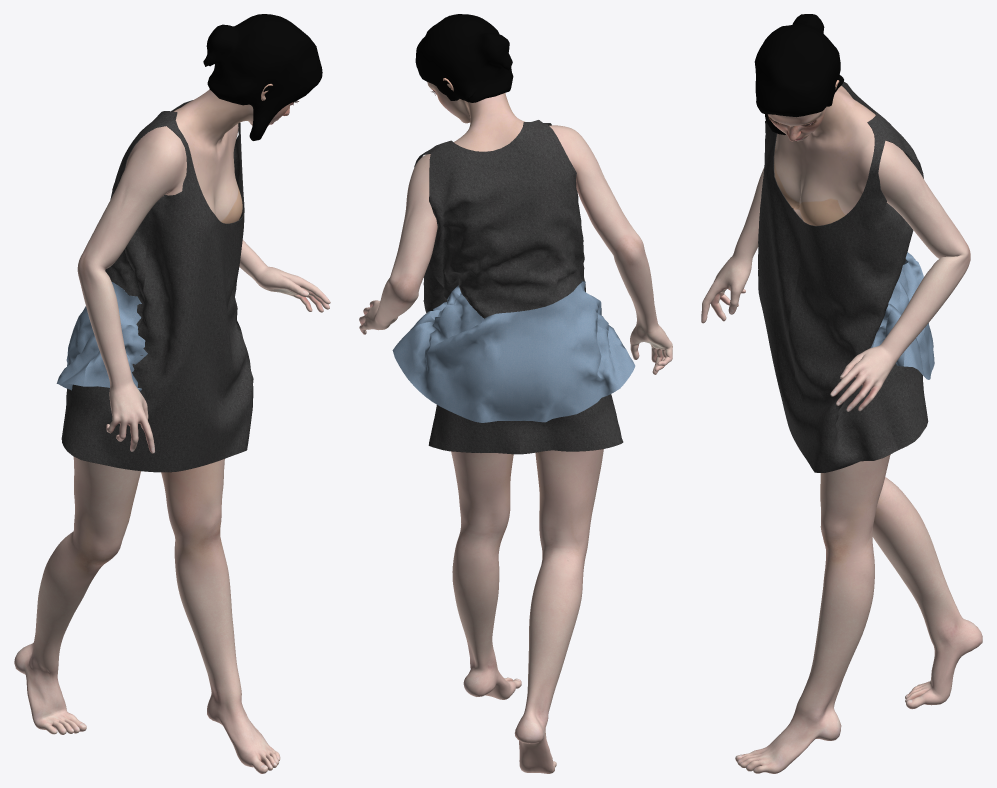
File: Dynamic_2.obj
3 renders of one model, left to right at view 1: azimuth 30°, elevation 25°; view 2: azimuth 150°, elevation 25°; view 3: azimuth 270°, elevation 25°, orthographic. The views are drawn at different scales.
Bounding box in the file's own units: 683 × 1739 × 590.
